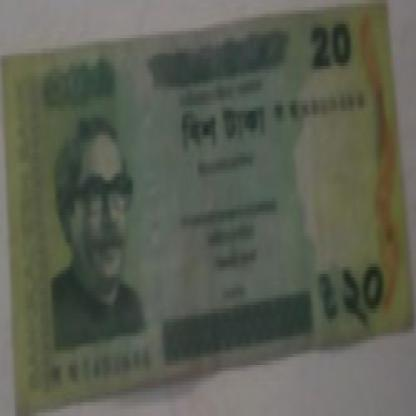Twenty: (38, 66, 120, 121), (316, 267, 396, 322), (176, 104, 272, 146), (308, 17, 366, 80)
